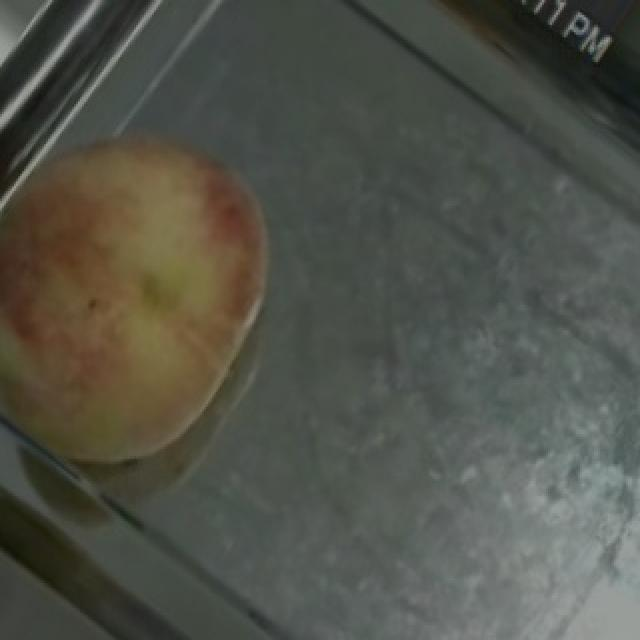Fruit: (0, 79, 306, 459)
